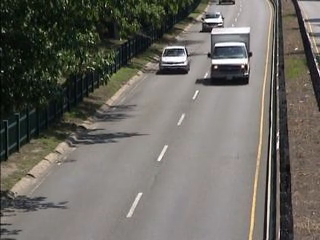car: (160, 44, 190, 75), (200, 10, 224, 33)
truck: (207, 26, 255, 87)
